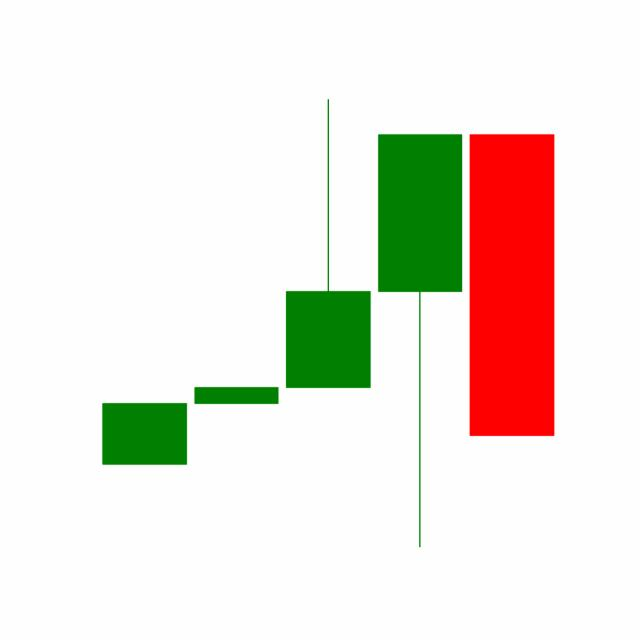Marubozu: (464, 131, 558, 439)
